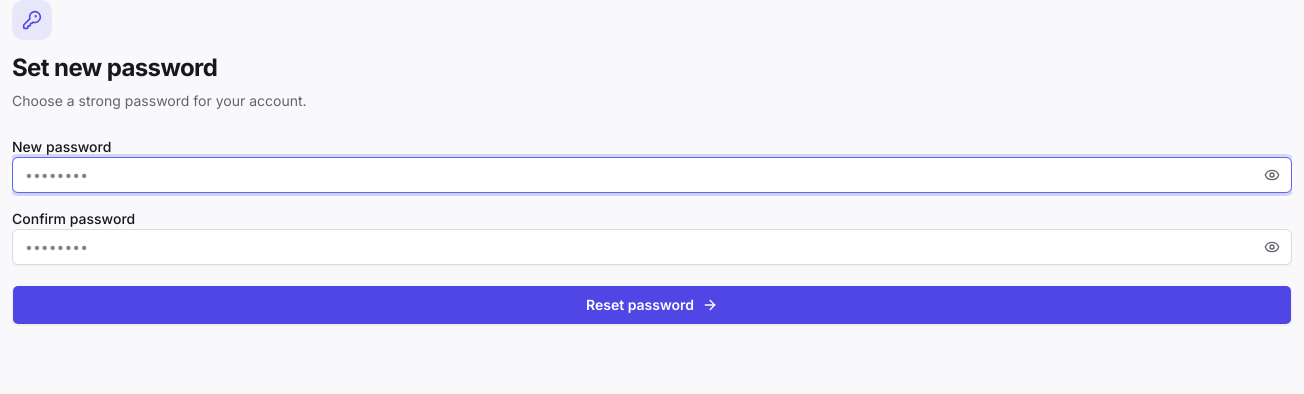
Scenario: ForgotPasswordResetStep Component › should display validation error on mismatched passwords
The image size is (1304, 394).
Type "Password123" into the password field labelled "New password" at [652, 175], box [12,157,1292,193]
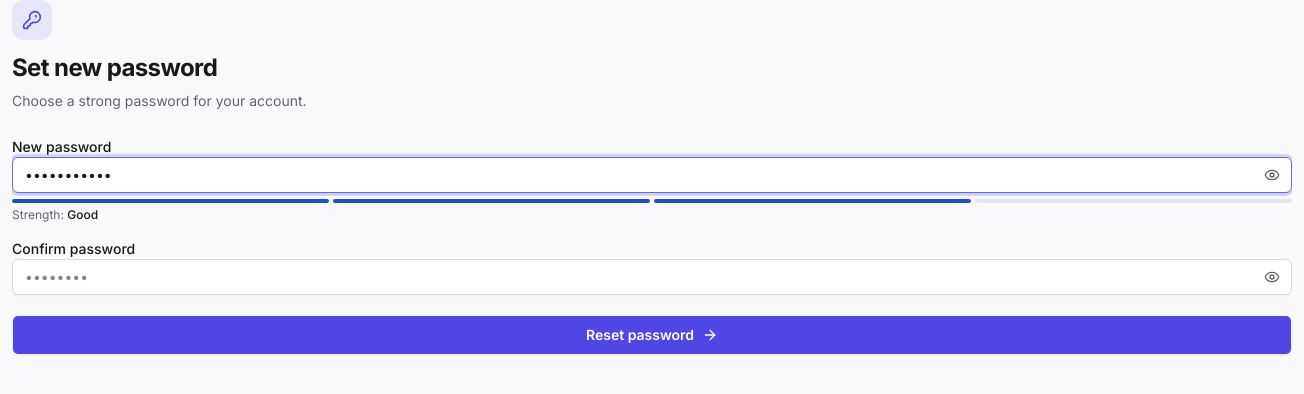
Type "Different123" into the password field labelled "Confirm password" at [652, 277], box [12,259,1292,295]
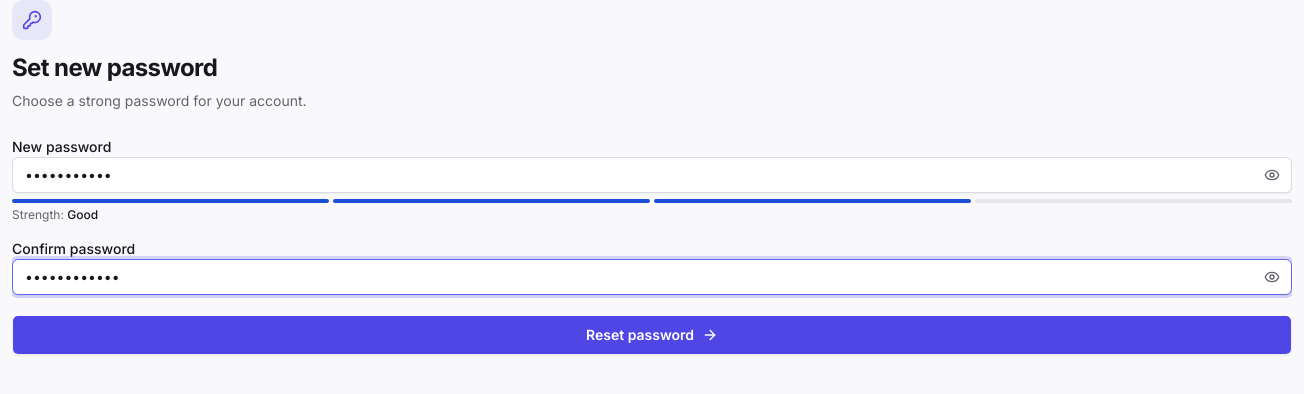
Click the button "Reset password" at [652, 335], box [12,315,1292,355]
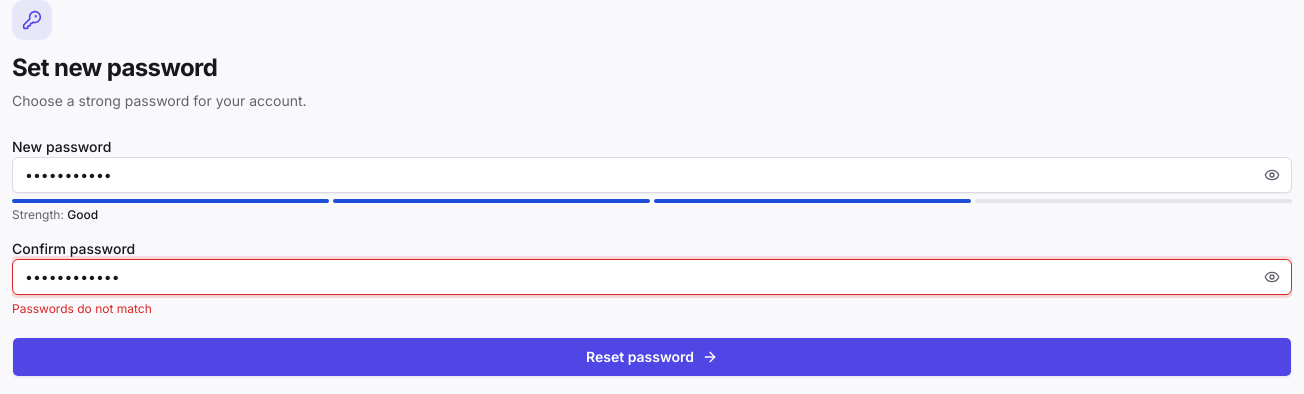
Result: the text "Passwords do not match" is shown at [12,301,152,316]
